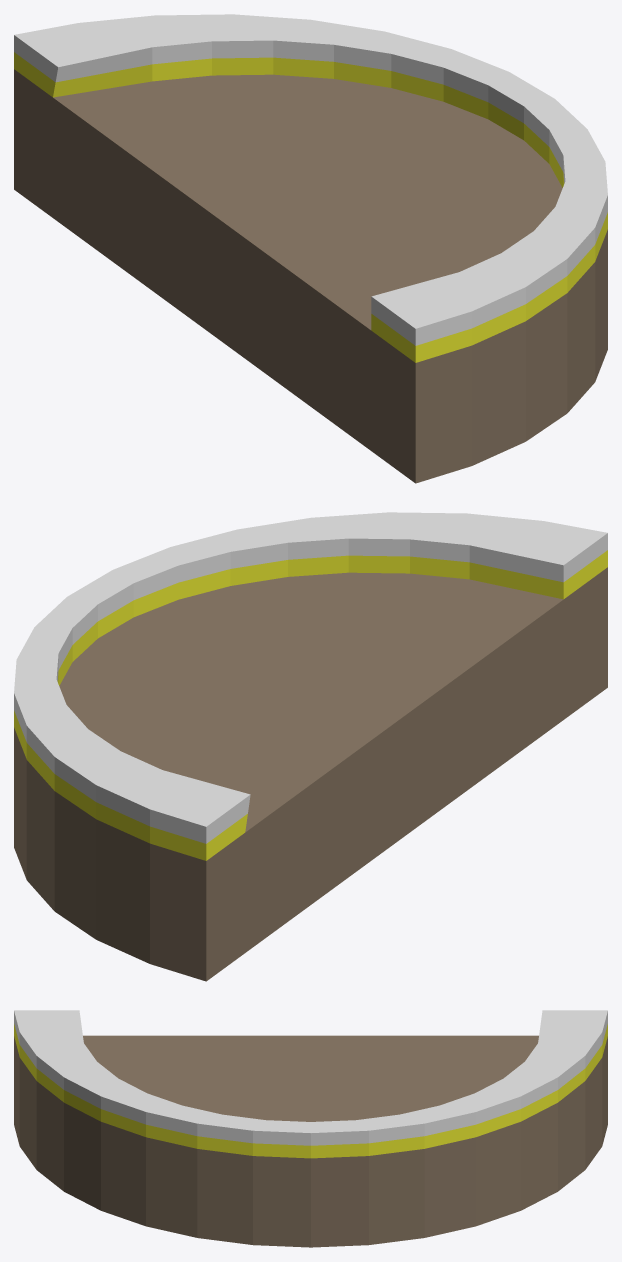
Rendered from DustCityRemaprtTowerBalcony.fbx.
3 views of the same model, one above another, from view 1: azimuth 30°, elevation 25°; view 2: azimuth 150°, elevation 25°; view 3: azimuth 270°, elevation 25° (orthographic). The views are drawn at different scales.
Visible parts, largest first — view 1: DustCityRempartBalcony; view 2: DustCityRempartBalcony; view 3: DustCityRempartBalcony.
Boxes of the visible parts, x1,y1,x2,y2 form: DustCityRempartBalcony: [14, 14, 607, 483]; DustCityRempartBalcony: [14, 512, 607, 981]; DustCityRempartBalcony: [14, 1010, 607, 1247].
Bounding box in the file's own units: 22.6 × 9.82 × 46.21.
